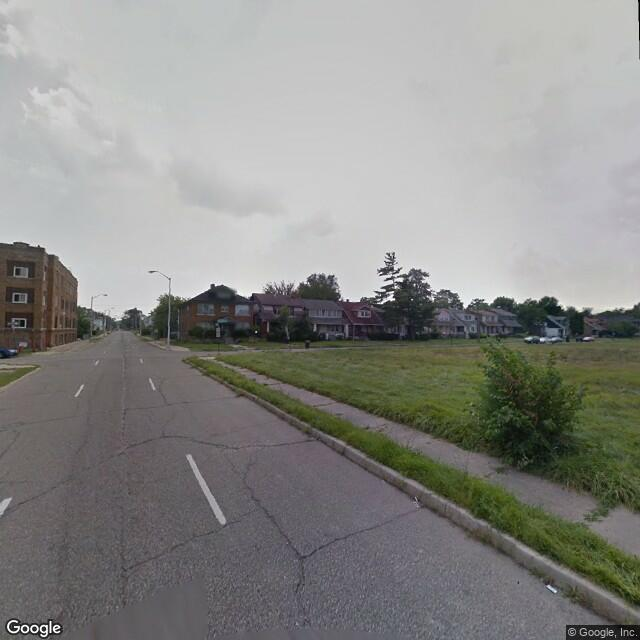litter: (543, 582, 563, 595)
